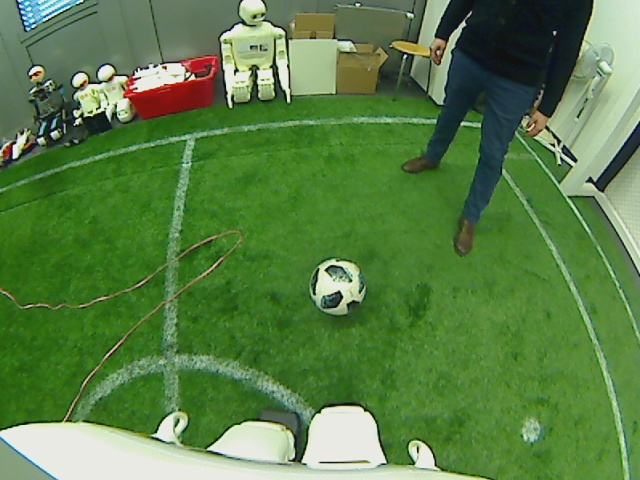ball: (309, 258, 367, 314)
